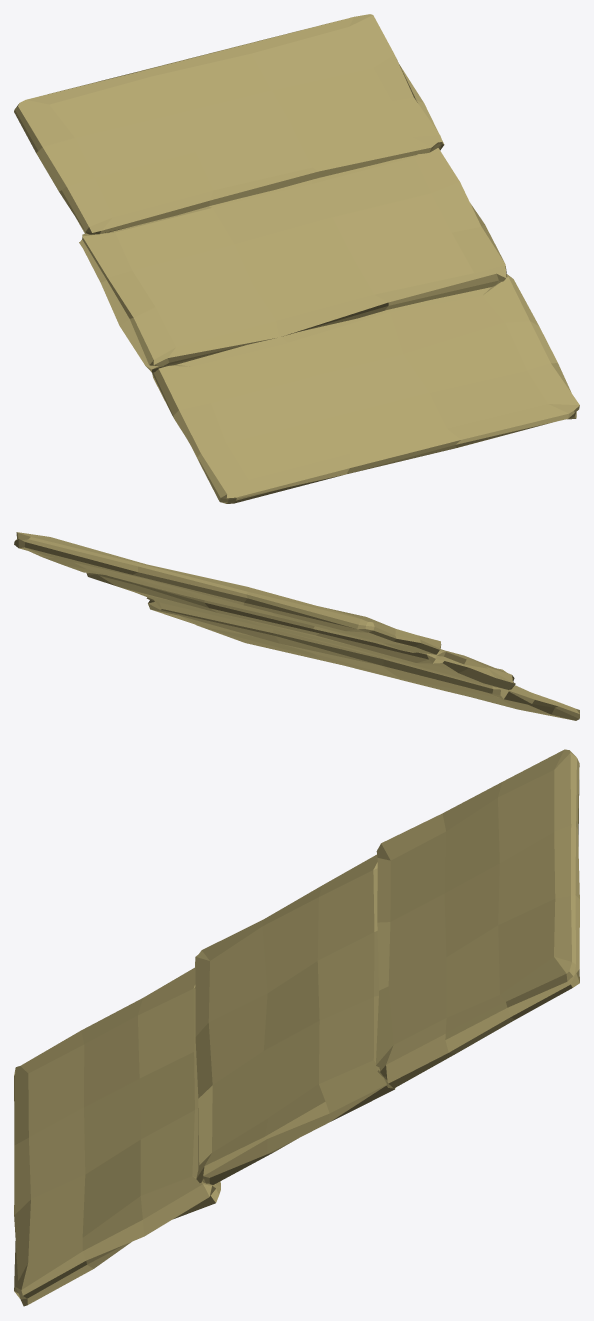
The model's file is fantasy_roof_thatch_1.fbx.
3 views of the same model, one above another, from view 1: azimuth 30°, elevation 25°; view 2: azimuth 150°, elevation 25°; view 3: azimuth 270°, elevation 25° (orthographic). The views are drawn at different scales.
Visible parts, largest first — view 1: Cube.035; view 2: Cube.035; view 3: Cube.035.
Boxes of the visible parts, left/top/right/bottom form: Cube.035: left=14, top=14, right=579, bottom=503; Cube.035: left=14, top=532, right=579, bottom=720; Cube.035: left=14, top=749, right=579, bottom=1306.
Bounding box in the file's own units: 352 × 230 × 351.
